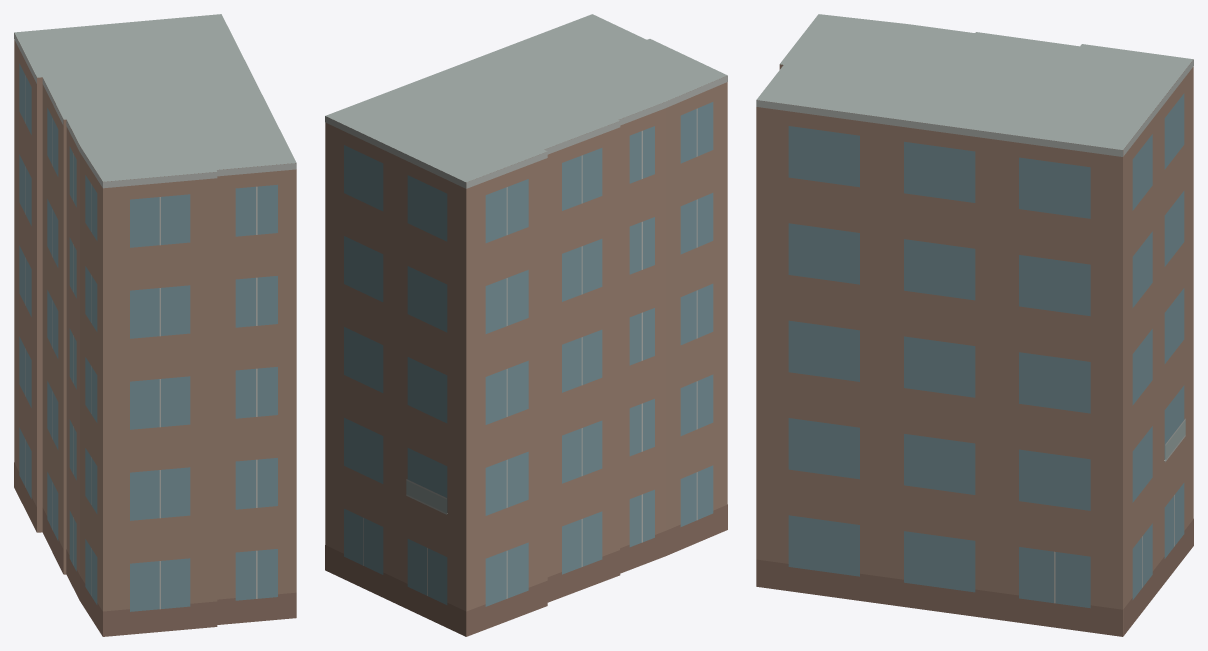
The model's file is survey-upis-32672567.glb.
The picture shows the model from 3 angles, left to right: view 1: azimuth 30°, elevation 25°; view 2: azimuth 150°, elevation 25°; view 3: azimuth 270°, elevation 25°; orthographic projection. The views are drawn at different scales.
Visible parts, largest first — view 1: survey-upis-32672567.tmp; view 2: survey-upis-32672567.tmp; view 3: survey-upis-32672567.tmp.
Boxes of the visible parts, <box> form: survey-upis-32672567.tmp: <box>14,14,296,636</box>; survey-upis-32672567.tmp: <box>325,14,727,636</box>; survey-upis-32672567.tmp: <box>756,14,1193,636</box>.
Size of the model in its own units: 10.33 by 17.2 by 14.02.
